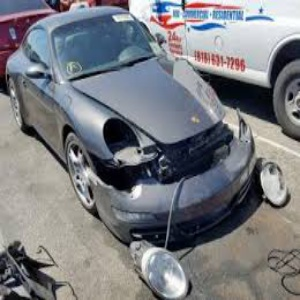bumper: (105, 153, 278, 236)
